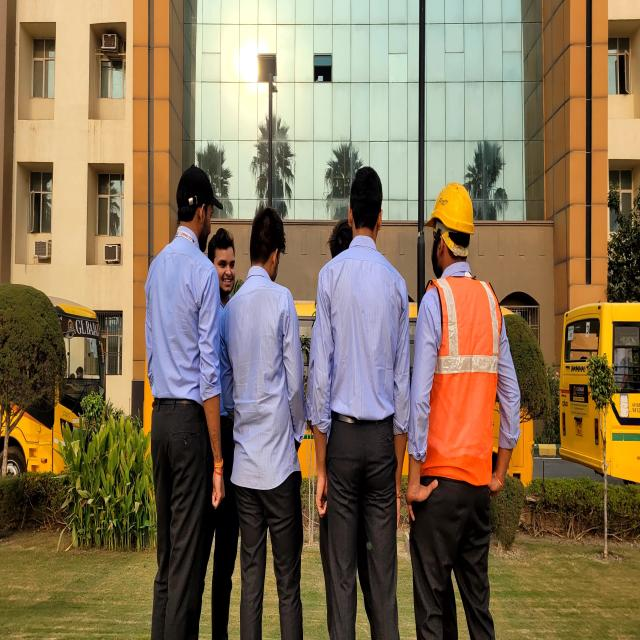safe: (400, 174, 522, 640)
unsafe: (311, 161, 409, 640), (222, 210, 317, 640), (144, 167, 222, 640)
